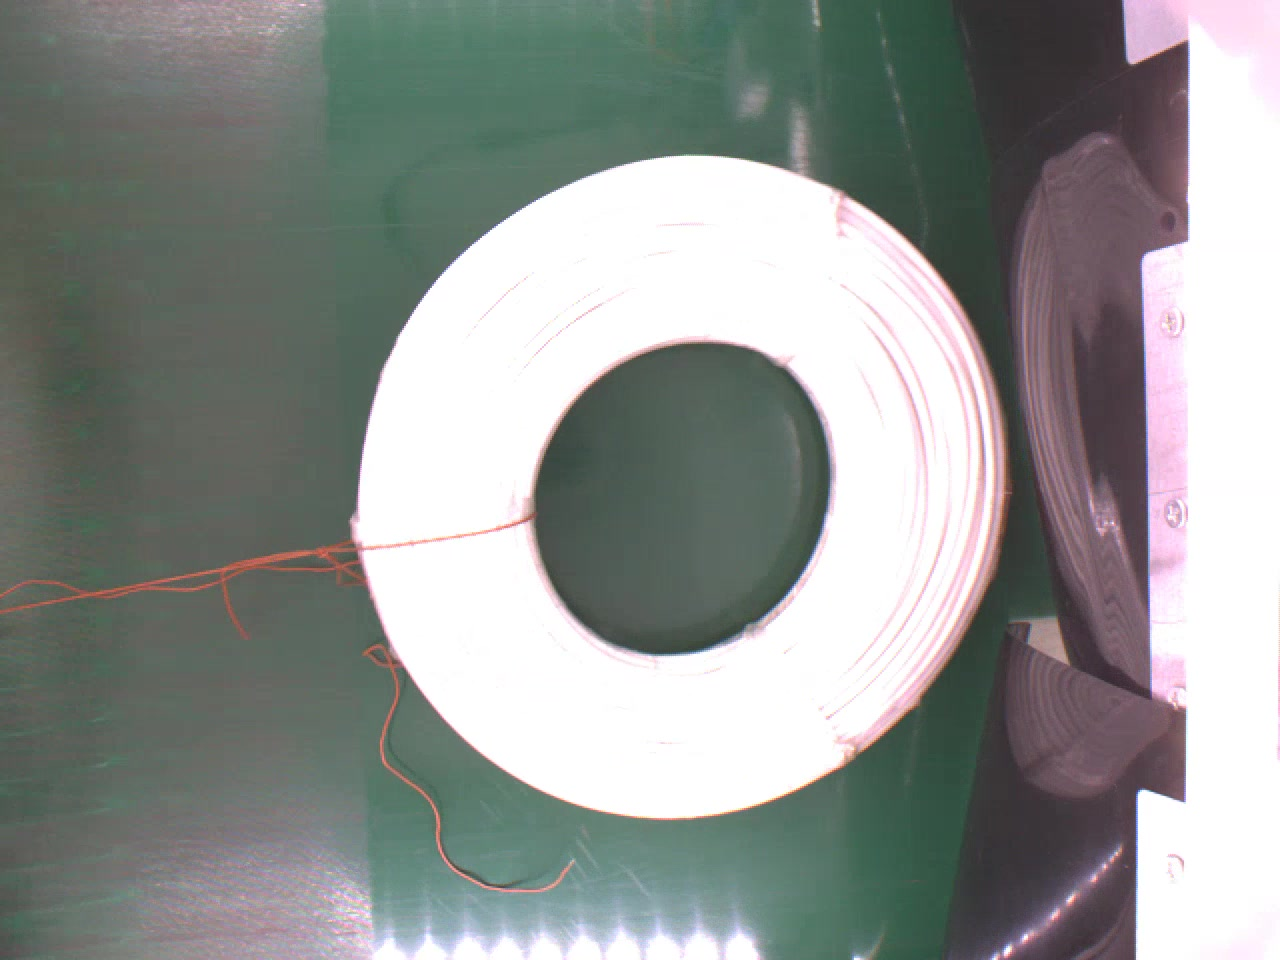white: (349, 145, 1025, 827)
